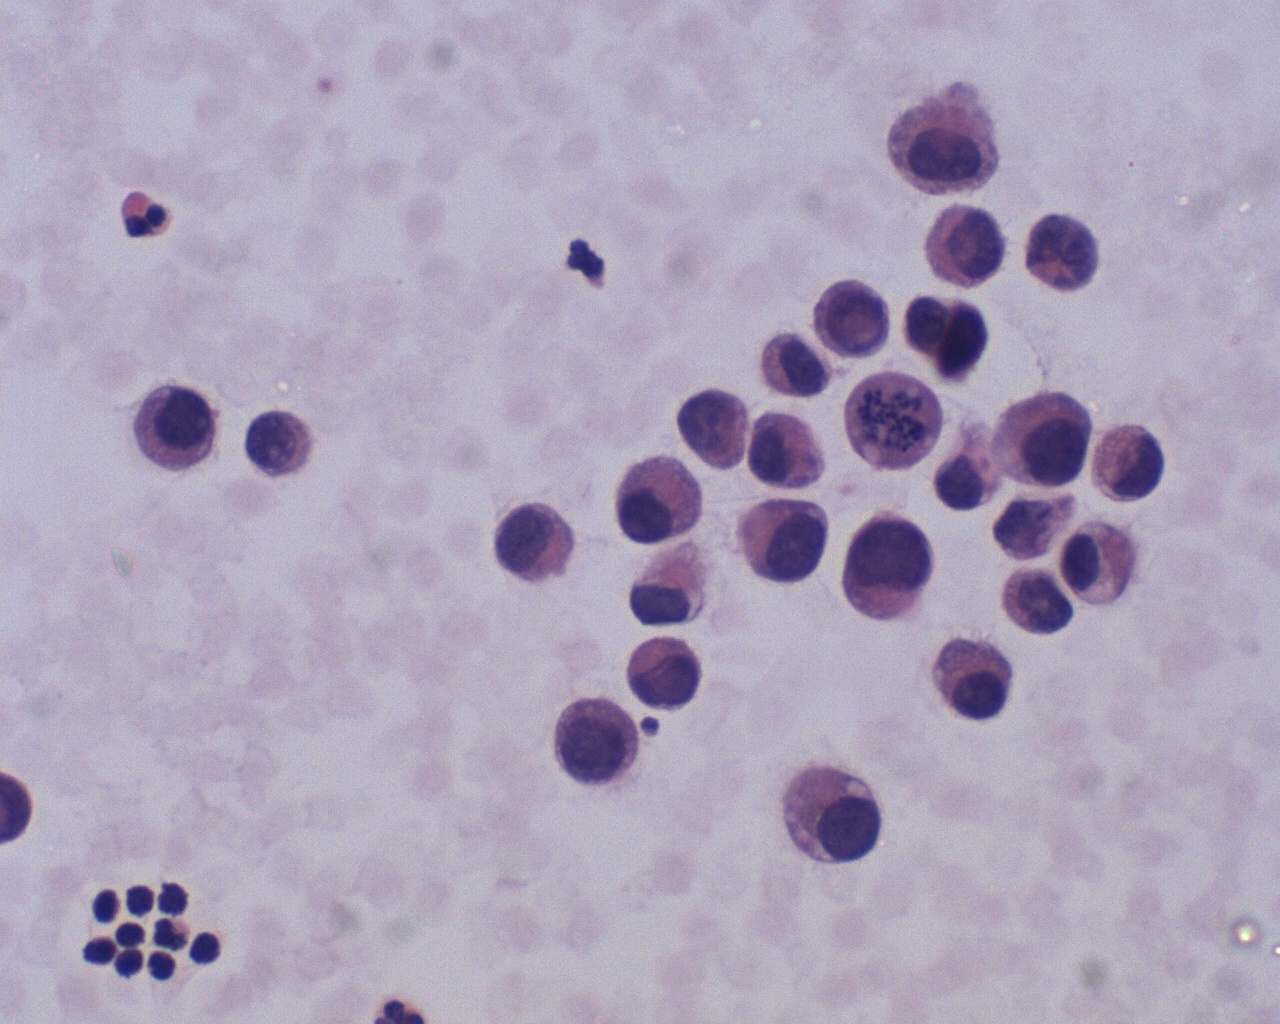ab: (835, 507, 950, 626), (906, 192, 1024, 290), (843, 370, 953, 474), (121, 375, 225, 482), (992, 385, 1093, 489), (732, 492, 836, 588), (1020, 204, 1120, 301), (551, 688, 645, 791), (618, 627, 723, 718), (806, 272, 902, 366), (490, 493, 573, 592), (1091, 412, 1171, 504), (674, 380, 752, 473), (993, 565, 1081, 643), (245, 400, 317, 485), (757, 329, 835, 401)
histo: (1060, 516, 1144, 609)
lymph: (80, 928, 119, 970), (120, 879, 157, 922), (187, 928, 222, 965)
meso: (781, 755, 881, 866), (611, 452, 713, 546)
neutro: (119, 184, 174, 245)
